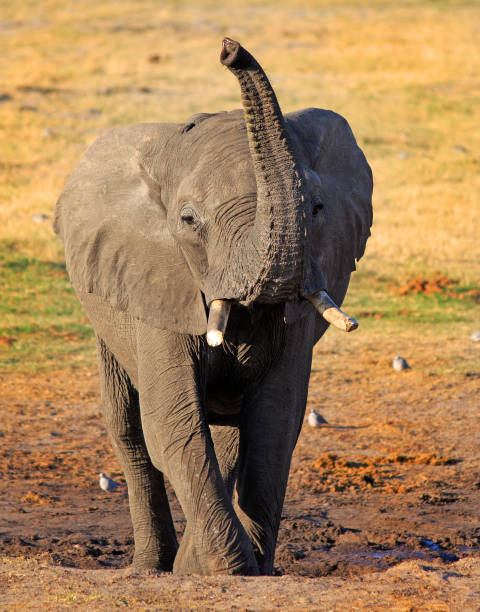africanelephant: (149, 106, 355, 365)
